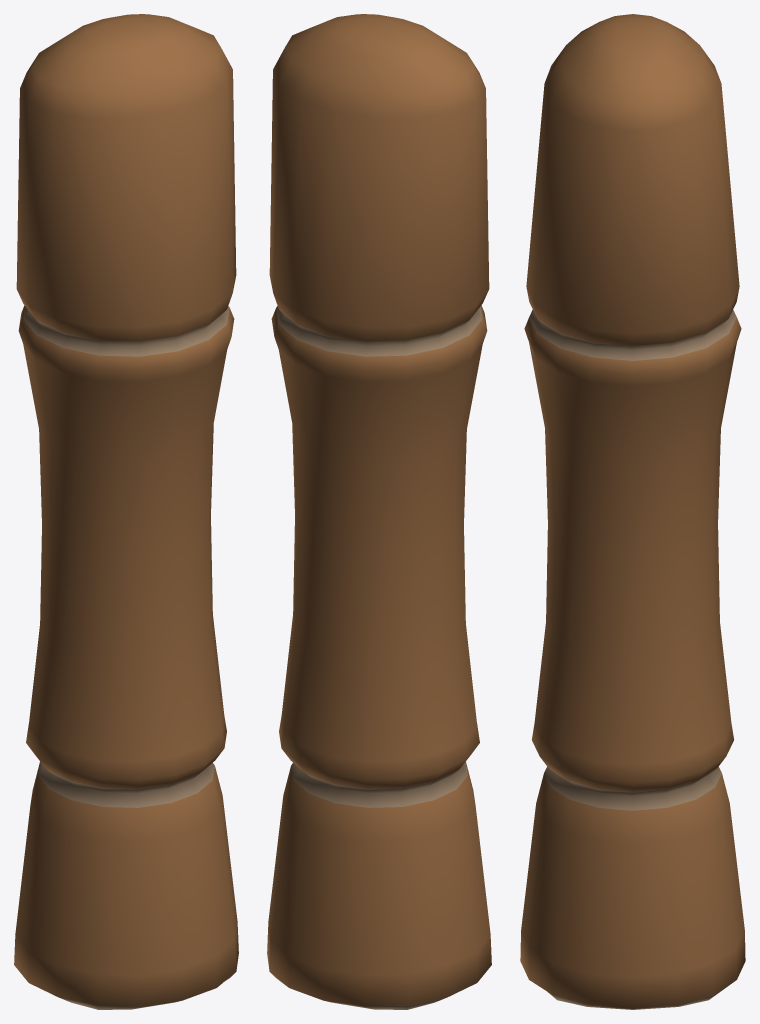
The model's file is Mulcher_Pestle.fbx.
3 renders of one model, left to right at view 1: azimuth 30°, elevation 25°; view 2: azimuth 150°, elevation 25°; view 3: azimuth 270°, elevation 25°, orthographic.
Parts seen in each view (by area): view 1: Mulcher_Pestle; view 2: Mulcher_Pestle; view 3: Mulcher_Pestle.
Part boxes in pixels (box(x1,y1,x2,y2)): Mulcher_Pestle: box(14, 14, 238, 1009); Mulcher_Pestle: box(267, 14, 491, 1009); Mulcher_Pestle: box(520, 14, 745, 1009).
Size of the model in its own units: 4.24 by 19.52 by 4.24.
